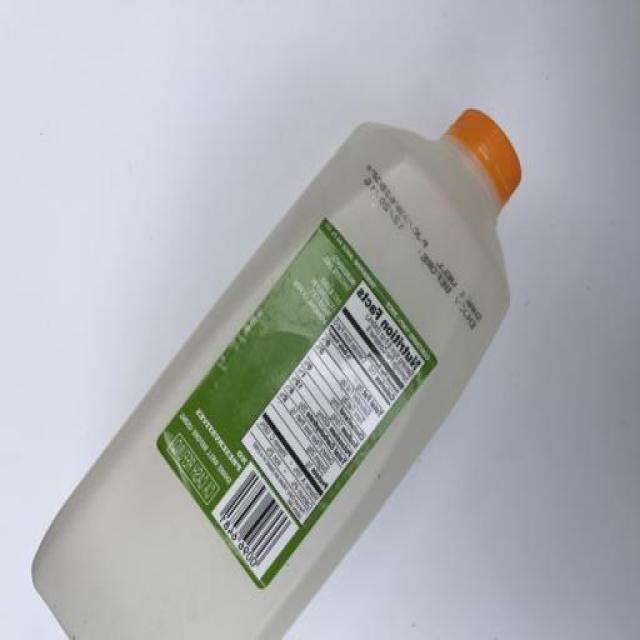Plastic: (32, 105, 525, 640)
